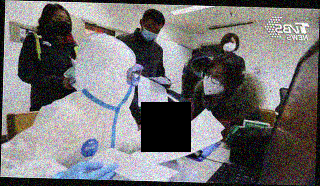with_mask: (202, 69, 225, 98), (50, 13, 73, 38), (141, 22, 160, 42), (222, 39, 238, 54)
